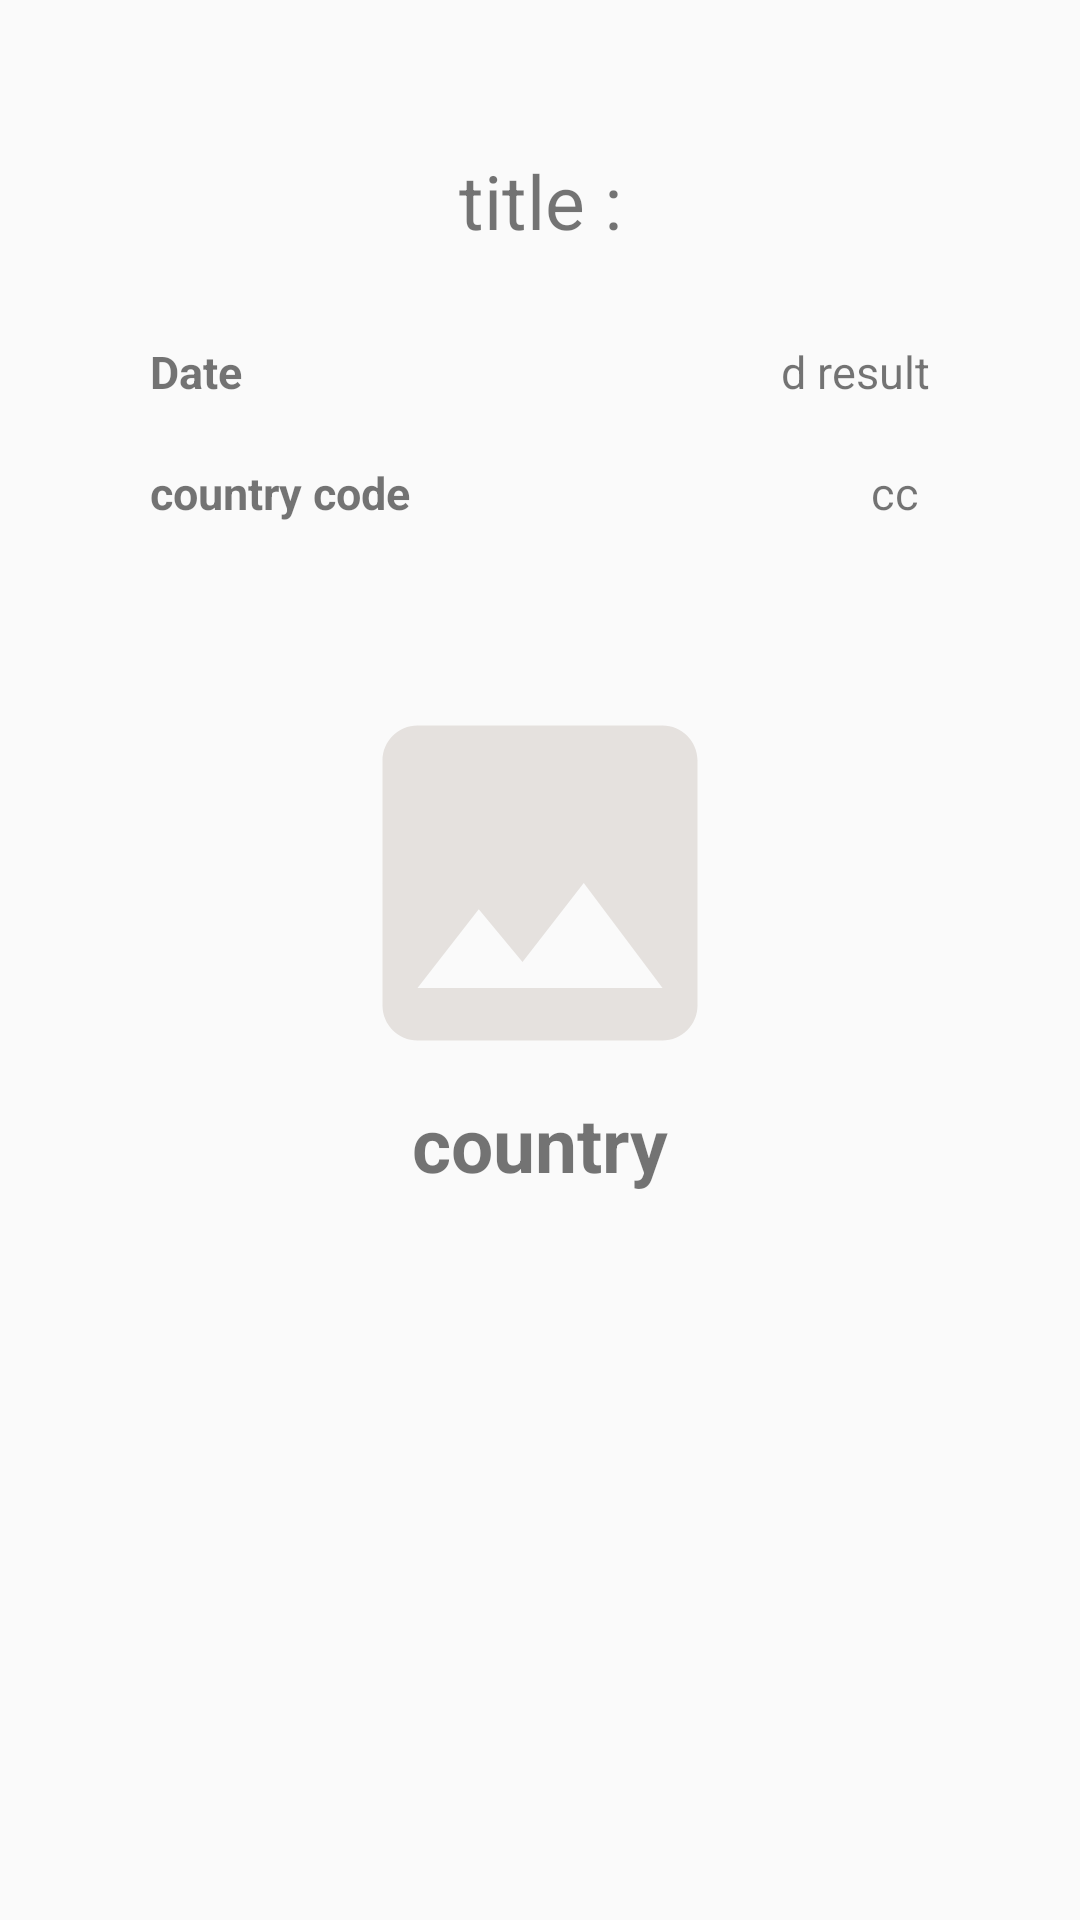

Point at icon controls on the screen. Image size 1080*1920, points as (x=x, y=y).
gallery: (x=540, y=883)
